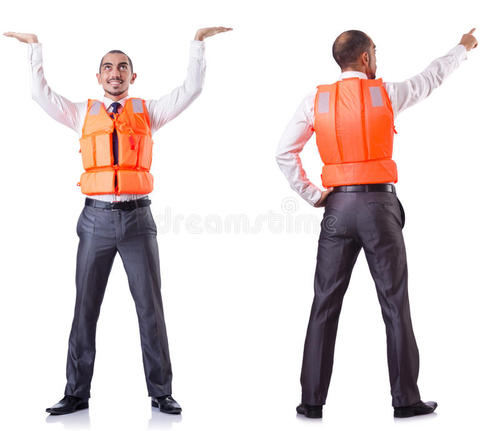reflective_clothes: (306, 64, 409, 195), (74, 85, 159, 210)
